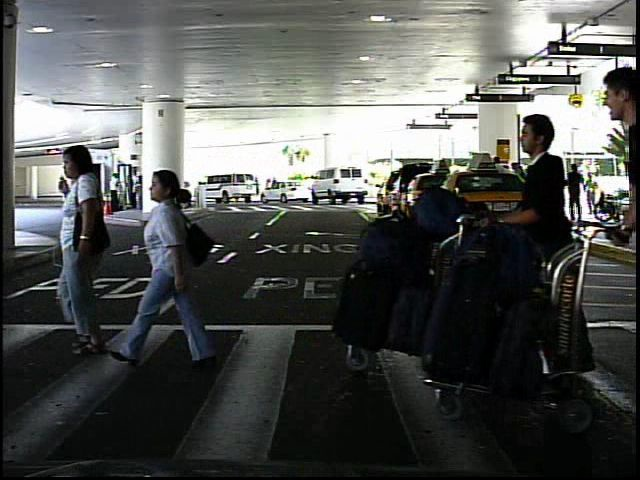person: (480, 100, 583, 394), (59, 137, 138, 358), (127, 158, 202, 382), (105, 172, 123, 222), (584, 171, 603, 217), (262, 178, 273, 204)
